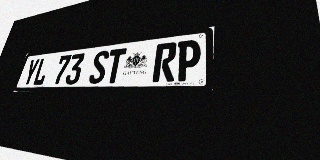3: (64, 53, 85, 85)
7: (52, 55, 72, 85)
L: (32, 57, 51, 86)
P: (175, 39, 201, 81)
R: (152, 42, 178, 82)
S: (88, 50, 110, 84)
T: (104, 48, 127, 83)
Y: (22, 58, 40, 86)
